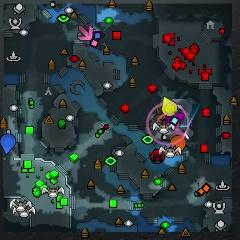p1: (0, 133, 17, 154)
p3: (167, 112, 185, 127)
p4: (162, 96, 178, 118)
p5: (171, 136, 186, 152)
x1: (78, 25, 95, 42)
x5: (153, 114, 172, 124)
